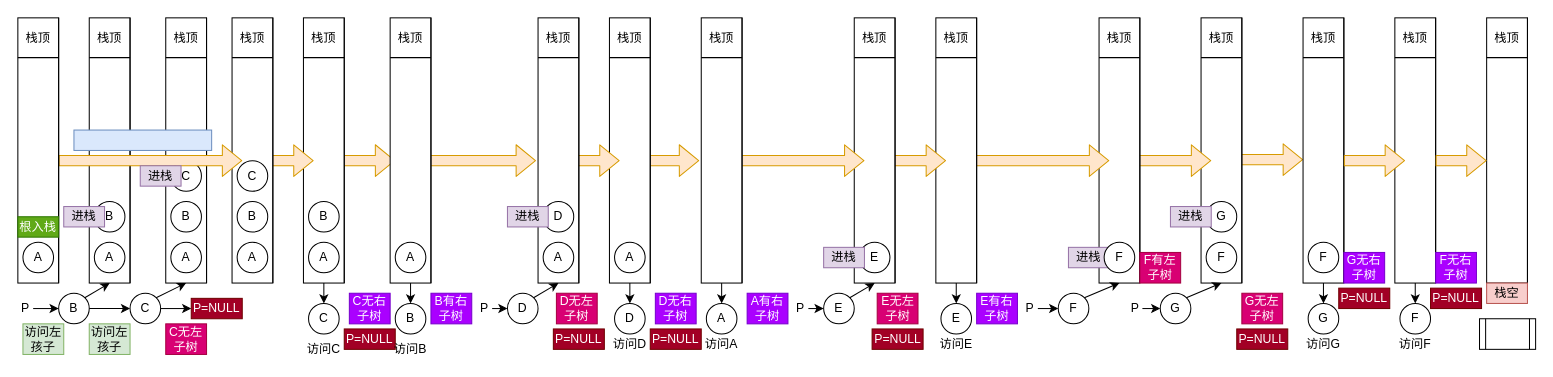
This 1553x377 diagram has some shape labels left out. Here are the shapes that lost their labels. From the top down, the box of each, then its label:
(73, 129, 212, 150): 一直寻找,直到左底为止
(1478, 318, 1536, 349): END
